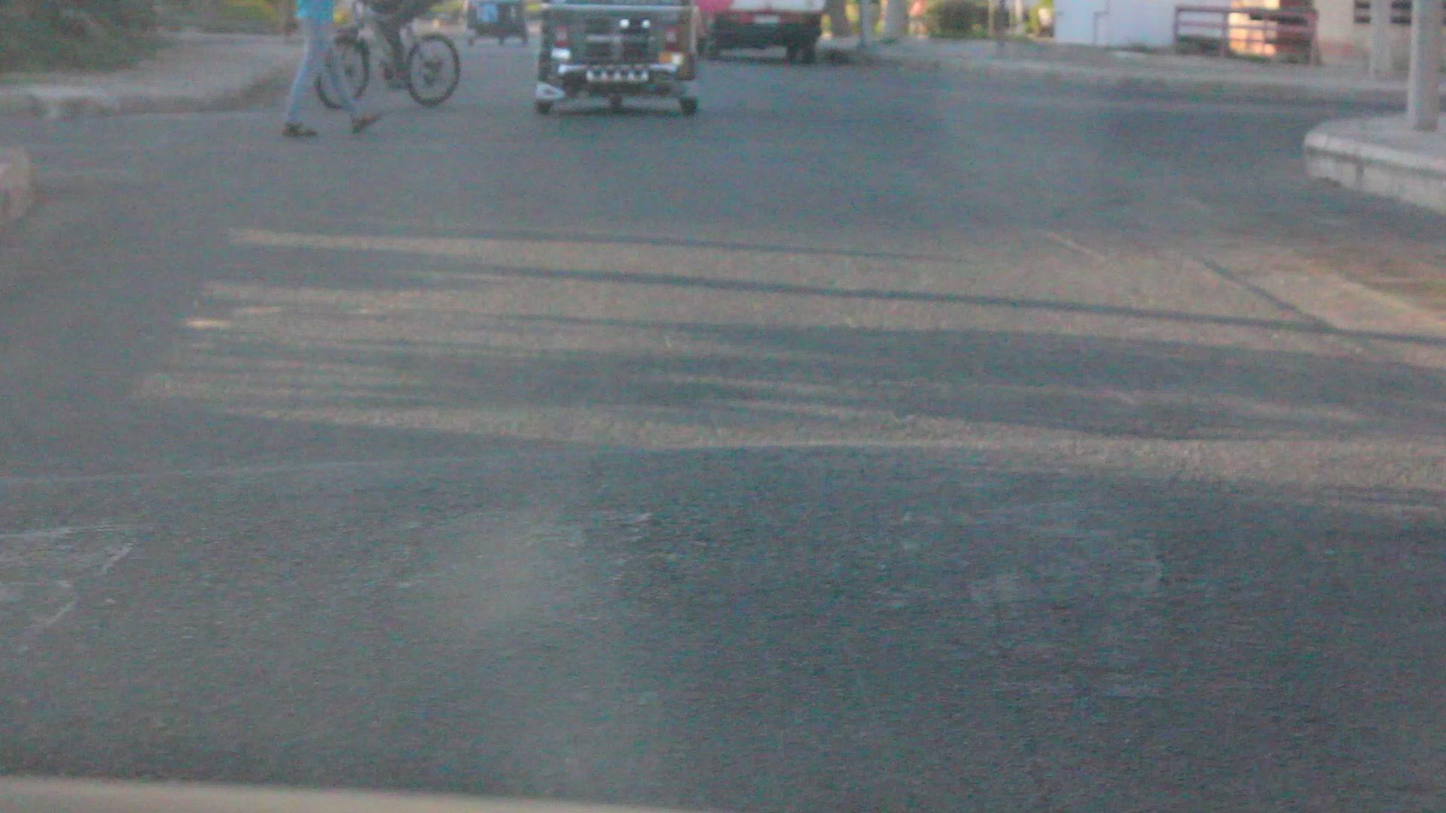Bump: (6, 551, 1446, 805)
